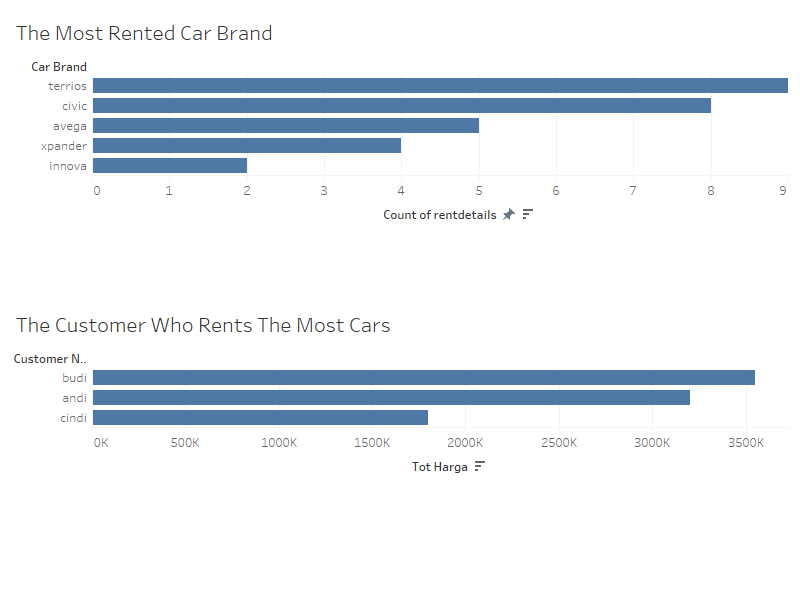

The page's visual inventory and layout, read from the dashboard file:
{"tool":"tableau","page":{"name":"Dashboard 1","canvas":[800,600],"ordinal":0},"visuals":[{"type":"worksheet","title":"Sheet 1","mark":"Automatic","rows":["merk_mobil"],"cols":["detailsewa_C3561E00564E4069943E25493BAD1A6A"],"box":[8,8,784,292]},{"type":"worksheet","title":"Sheet 2","mark":"Automatic","rows":["nama_pel"],"cols":["tot_harga"],"box":[8,300,784,292]}]}

Visuals, with their boxes in screenshot pixels (x1, y1, x2, y2), scaled from the page's 800x600 canvas onto the 800x600 screenshot:
"Sheet 1" worksheet: 8 8 792 300
"Sheet 2" worksheet: 8 300 792 592
